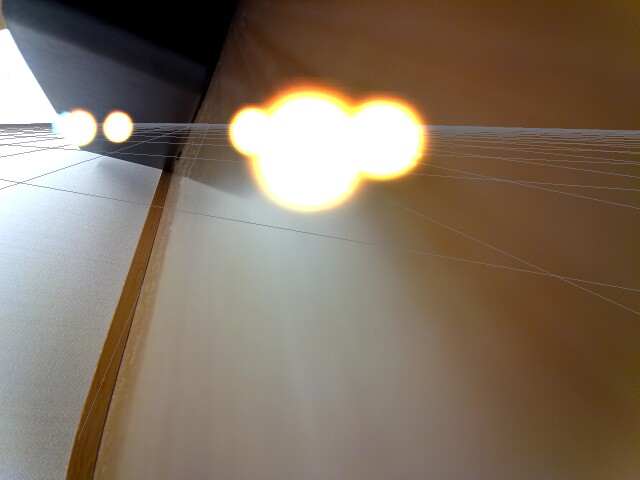firebig: (215, 73, 461, 242)
